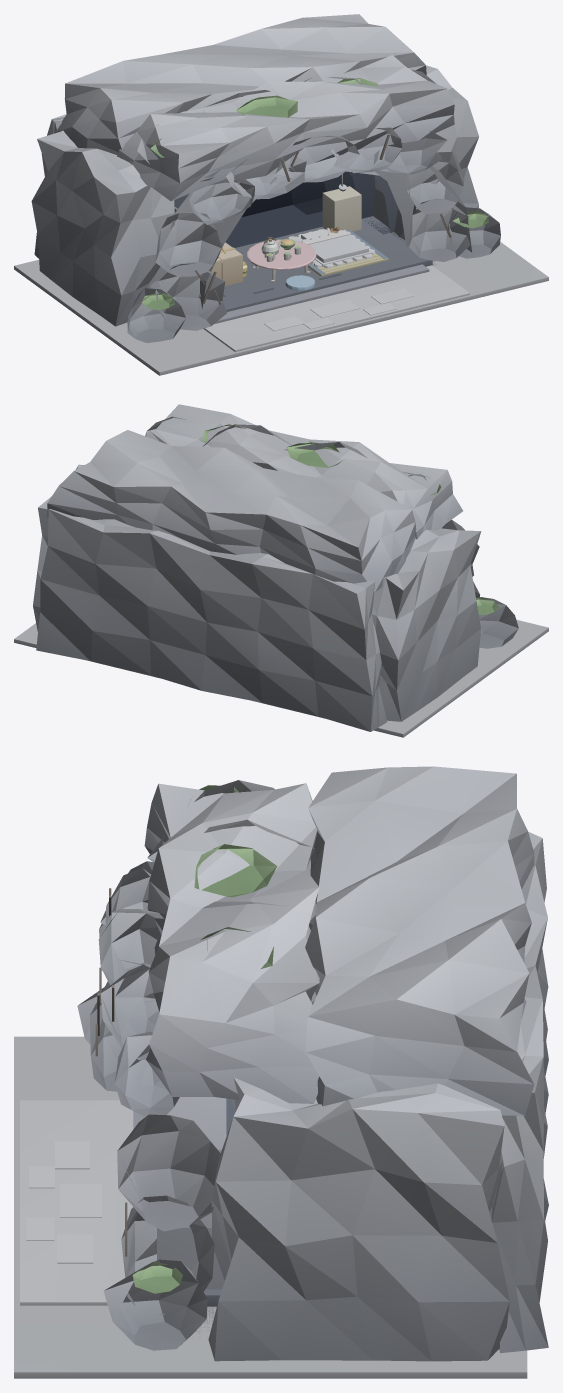
The model's file is cave.glb.
3 renders of one model, top to bottom at view 1: azimuth 30°, elevation 25°; view 2: azimuth 150°, elevation 25°; view 3: azimuth 270°, elevation 25°, orthographic. The views are drawn at different scales.
Visible parts, largest first — view 1: cave_hachiware_root; view 2: cave_hachiware_root; view 3: cave_hachiware_root.
Part boxes in pixels (bbox=[...]): cave_hachiware_root: bbox=[14, 14, 548, 375]; cave_hachiware_root: bbox=[14, 404, 548, 737]; cave_hachiware_root: bbox=[14, 766, 548, 1378].
Size of the model in its own units: 13.6 by 6.38 by 9.17.
